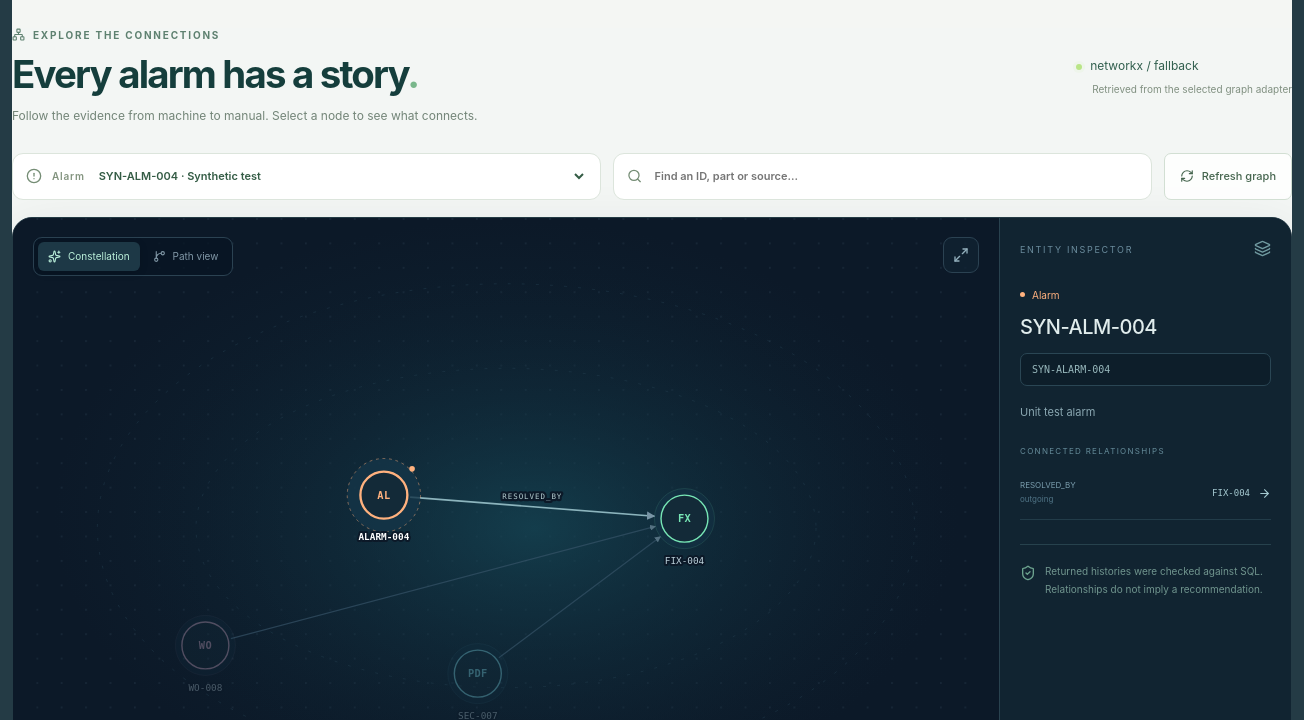
it: clears old evidence when another alarm fails instead of displaying stale nodes
The image size is (1304, 720).
Expected: the button "Fix SYN-FIX-004" is shown, x1=665 y1=512 x2=704 y2=565
Select "SYN-ALM-005 · Another synthetic test" in the dropdown named "Graph alarm" at (341, 176), box x1=95 y1=168 x2=587 y2=184
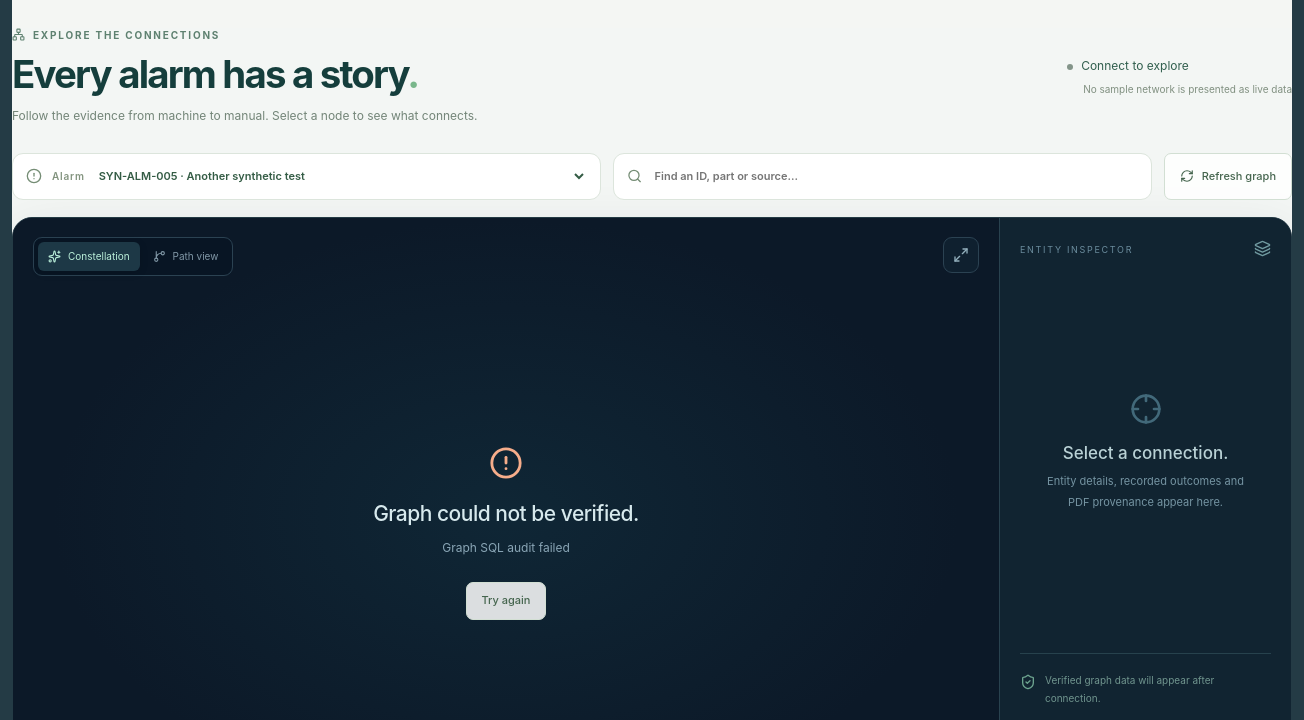
Result: the heading "Graph could not be verified." is shown at x1=373 y1=501 x2=639 y2=526
